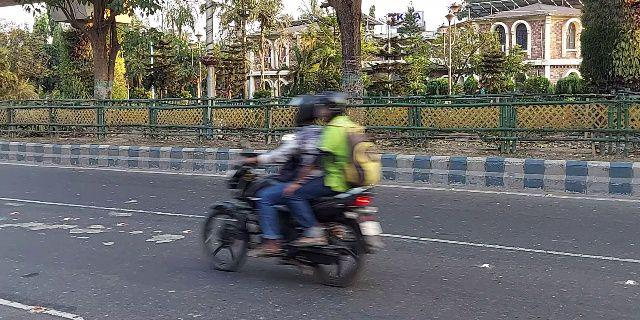Motorbike: (197, 88, 388, 286)
